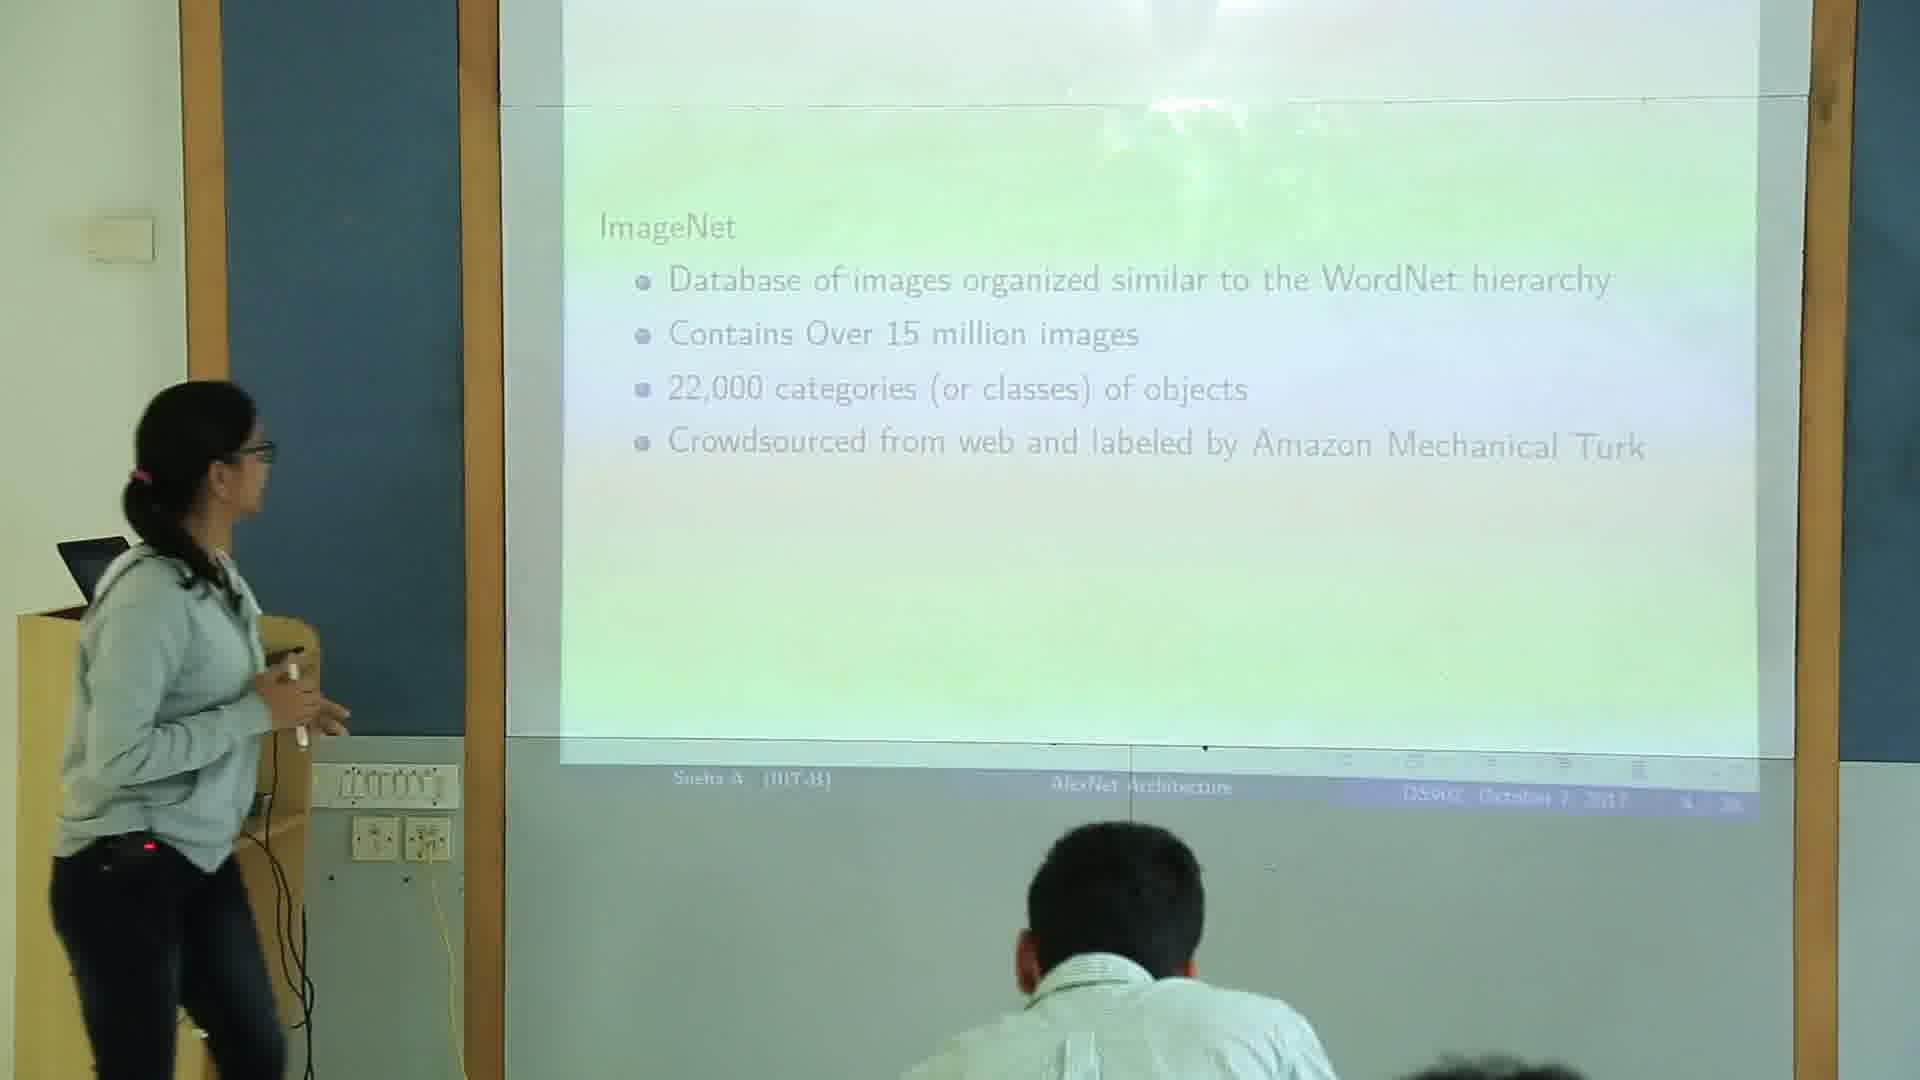slide: (562, 3, 1758, 815)
